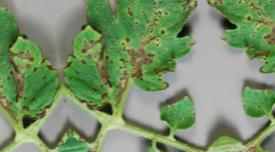Tomato Septoria leaf spot: (46, 0, 217, 116), (68, 116, 149, 152), (167, 120, 234, 152)
